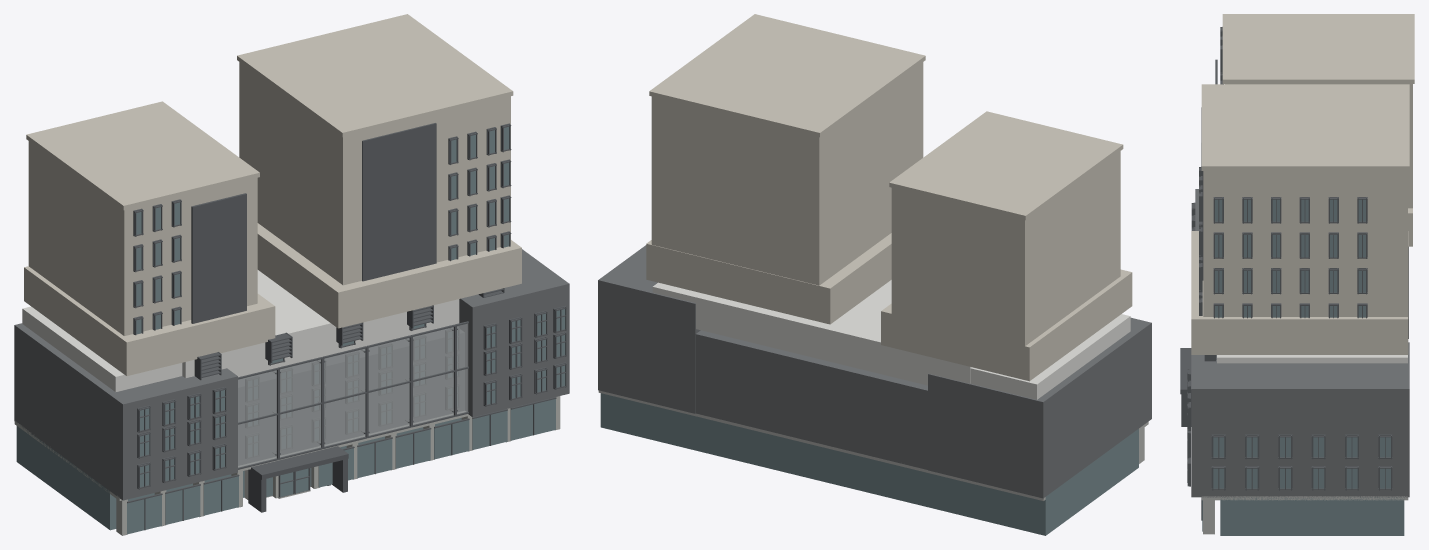
The model's file is the_hive.glb.
3 views of the same model, side by side, from view 1: azimuth 30°, elevation 25°; view 2: azimuth 150°, elevation 25°; view 3: azimuth 270°, elevation 25° (orthographic).
Parts seen in each view (by area): view 1: HIVE_UpperTower_A_MAT_PaleBrick_PLACEHOLDER, HIVE_UpperTower_B_MAT_PaleBrick_PLACEHOLDER, HIVE_DarkBrickVolume_MAT_DarkBrick_PLACEHOLDER, HIVE_ScreenFacade_MAT_MetalScreen_PLACEHOLDER, HIVE_GroundFloor_MAT_Glass_PLACEHOLDER, HIVE_UpperTower_A_MAT_DarkMetal_PLACEHOLDER, HIVE_RecessedFloor_MAT_WhiteWall_PLACEHOLDER, HIVE_DarkBrickVolume_MAT_DarkMetal_PLACEHOLDER, HIVE_UpperTower_B_MAT_DarkMetal_PLACEHOLDER, HIVE_DarkBrickVolume_MAT_Glass_PLACEHOLDER, HIVE_ScreenFacade_MAT_DarkMetal_PLACEHOLDER, HIVE_GroundFloor_MAT_Concrete_PLACEHOLDER (+5 smaller); view 2: HIVE_UpperTower_A_MAT_PaleBrick_PLACEHOLDER, HIVE_DarkBrickVolume_MAT_DarkBrick_PLACEHOLDER, HIVE_UpperTower_B_MAT_PaleBrick_PLACEHOLDER, HIVE_GroundFloor_MAT_Glass_PLACEHOLDER, HIVE_RecessedFloor_MAT_WhiteWall_PLACEHOLDER, HIVE_GroundFloor_MAT_Concrete_PLACEHOLDER; view 3: HIVE_UpperTower_A_MAT_PaleBrick_PLACEHOLDER, HIVE_DarkBrickVolume_MAT_DarkBrick_PLACEHOLDER, HIVE_UpperTower_B_MAT_PaleBrick_PLACEHOLDER, HIVE_GroundFloor_MAT_Glass_PLACEHOLDER, HIVE_UpperTower_A_MAT_DarkMetal_PLACEHOLDER, HIVE_UpperTower_A_MAT_Glass_PLACEHOLDER, HIVE_BuildingShell_MAT_Glass_PLACEHOLDER, HIVE_BuildingShell_MAT_DarkMetal_PLACEHOLDER, HIVE_RecessedFloor_MAT_WhiteWall_PLACEHOLDER, HIVE_GroundFloor_MAT_Concrete_PLACEHOLDER, HIVE_DarkBrickVolume_MAT_DarkMetal_PLACEHOLDER, ACE_EntranceCanopy.
Part boxes in pixels (x1,y1,x2,y2): HIVE_UpperTower_A_MAT_PaleBrick_PLACEHOLDER: (237,14,521,328); HIVE_UpperTower_B_MAT_PaleBrick_PLACEHOLDER: (24,101,275,375); HIVE_DarkBrickVolume_MAT_DarkBrick_PLACEHOLDER: (14,249,569,500); HIVE_ScreenFacade_MAT_MetalScreen_PLACEHOLDER: (238,323,468,467); HIVE_GroundFloor_MAT_Glass_PLACEHOLDER: (16,399,555,534); HIVE_UpperTower_A_MAT_DarkMetal_PLACEHOLDER: (362,123,511,281); HIVE_RecessedFloor_MAT_WhiteWall_PLACEHOLDER: (22,270,459,391); HIVE_DarkBrickVolume_MAT_DarkMetal_PLACEHOLDER: (137,306,566,489); HIVE_UpperTower_B_MAT_DarkMetal_PLACEHOLDER: (133,193,246,335); HIVE_DarkBrickVolume_MAT_Glass_PLACEHOLDER: (140,309,565,487); HIVE_ScreenFacade_MAT_DarkMetal_PLACEHOLDER: (238,321,468,469); HIVE_GroundFloor_MAT_Concrete_PLACEHOLDER: (14,396,560,535); HIVE_UpperTower_A_MAT_PaleBrick_PLACEHOLDER: (646,14,925,324); HIVE_DarkBrickVolume_MAT_DarkBrick_PLACEHOLDER: (598,245,1151,498); HIVE_UpperTower_B_MAT_PaleBrick_PLACEHOLDER: (881,111,1132,381); HIVE_GroundFloor_MAT_Glass_PLACEHOLDER: (600,393,1138,535); HIVE_RecessedFloor_MAT_WhiteWall_PLACEHOLDER: (652,280,1130,399); HIVE_GroundFloor_MAT_Concrete_PLACEHOLDER: (598,390,1148,500); HIVE_UpperTower_A_MAT_PaleBrick_PLACEHOLDER: (1191,84,1409,354); HIVE_DarkBrickVolume_MAT_DarkBrick_PLACEHOLDER: (1191,189,1409,497); HIVE_UpperTower_B_MAT_PaleBrick_PLACEHOLDER: (1222,14,1414,246); HIVE_GroundFloor_MAT_Glass_PLACEHOLDER: (1202,497,1404,535); HIVE_UpperTower_A_MAT_DarkMetal_PLACEHOLDER: (1199,107,1367,318); HIVE_UpperTower_A_MAT_Glass_PLACEHOLDER: (1215,199,1365,317); HIVE_BuildingShell_MAT_Glass_PLACEHOLDER: (1213,437,1390,488); HIVE_BuildingShell_MAT_DarkMetal_PLACEHOLDER: (1211,434,1392,490); HIVE_RecessedFloor_MAT_WhiteWall_PLACEHOLDER: (1217,355,1407,363); HIVE_GroundFloor_MAT_Concrete_PLACEHOLDER: (1201,496,1408,534); HIVE_DarkBrickVolume_MAT_DarkMetal_PLACEHOLDER: (1187,202,1195,486); ACE_EntranceCanopy: (1180,348,1191,394).
Size of the model in its own units: 44.29 by 33.13 by 20.4.
